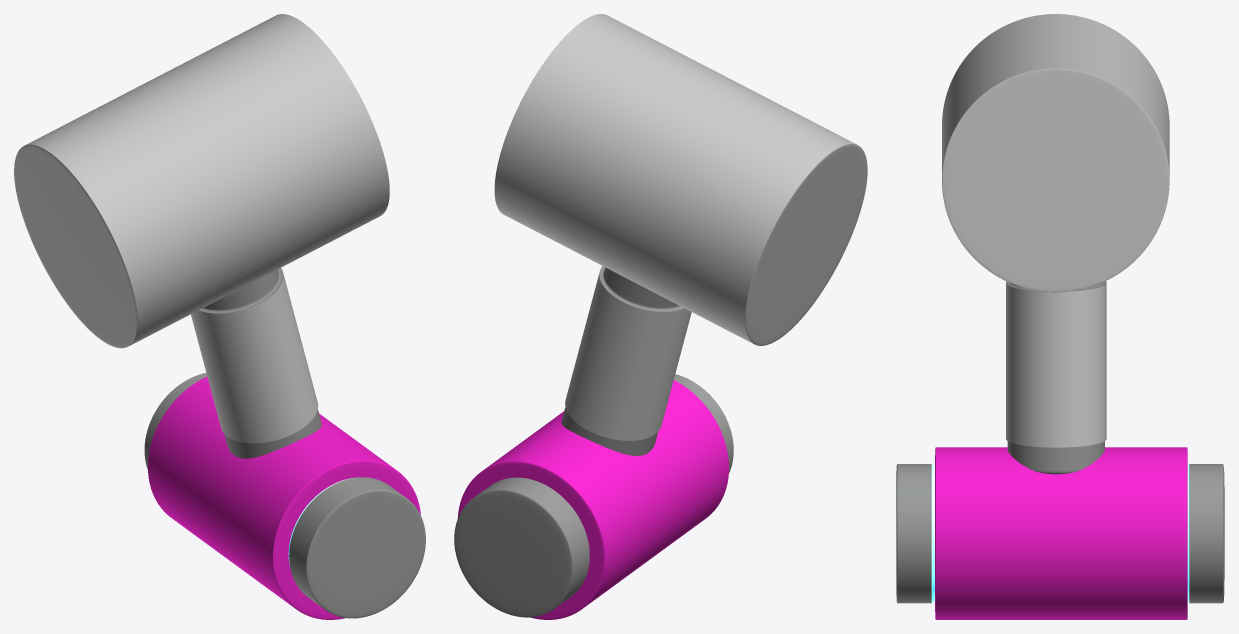
3 views of the same model, side by side, from view 1: azimuth 30°, elevation 25°; view 2: azimuth 150°, elevation 25°; view 3: azimuth 270°, elevation 25° (orthographic).
Visible parts, largest first — view 1: Fall Guys Hammer_0; view 2: Fall Guys Hammer_0; view 3: Fall Guys Hammer_0.
Part boxes in pixels (left/top/right/bottom): Fall Guys Hammer_0: left=14, top=14, right=425, bottom=619; Fall Guys Hammer_0: left=454, top=14, right=867, bottom=619; Fall Guys Hammer_0: left=896, top=14, right=1224, bottom=619.
Size of the model in its own units: 0.6819 by 1.15 by 0.6201.
